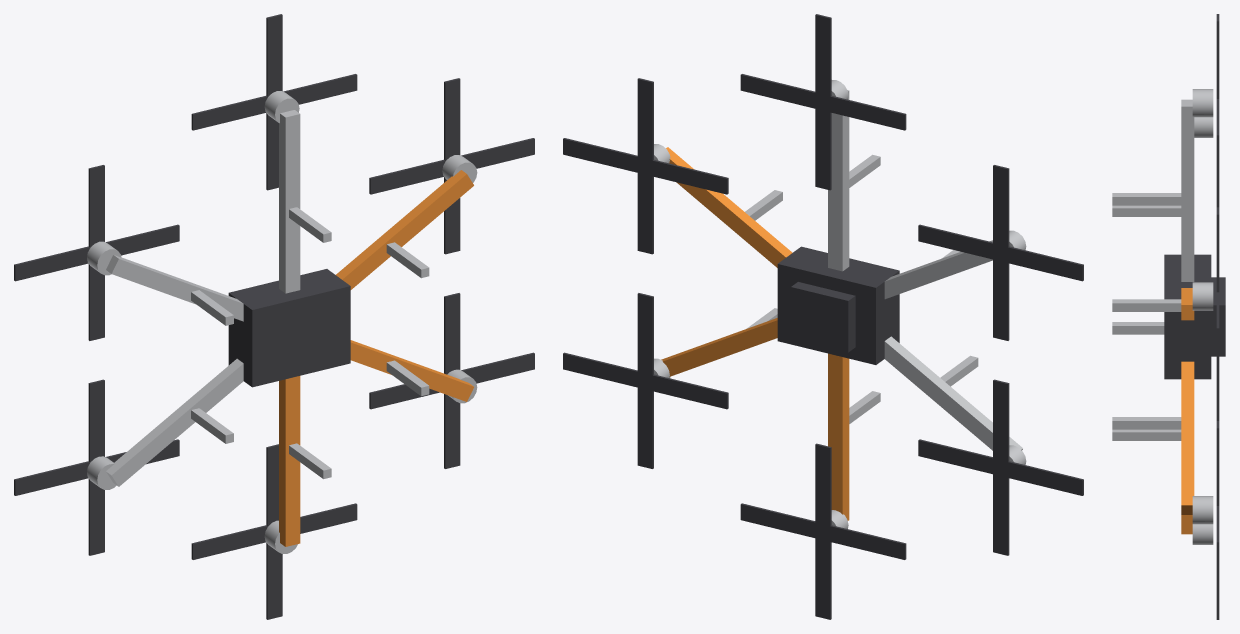
3 views of the same model, side by side, from view 1: azimuth 30°, elevation 25°; view 2: azimuth 150°, elevation 25°; view 3: azimuth 270°, elevation 25° (orthographic).
Visible parts, largest first — view 1: frame, body, arms_front, rotor_3, rotor_2, rotor_1, rotor_5, rotor_6, rotor_4; view 2: frame, body, arms_front, rotor_2, rotor_5, rotor_1, rotor_4, rotor_3, rotor_6; view 3: frame, body, arms_front, rotor_1, rotor_2, rotor_6.
Boxes of the visible parts, x1,y1,x2,y2 form: frame: (87, 91, 477, 553); body: (228, 269, 350, 387); arms_front: (279, 170, 473, 546); rotor_3: (14, 165, 179, 340); rotor_2: (191, 14, 357, 190); rotor_1: (369, 78, 534, 254); rotor_5: (191, 444, 357, 619); rotor_6: (369, 293, 534, 468); rotor_4: (14, 379, 179, 555); frame: (654, 80, 1026, 528); body: (777, 246, 899, 364); arms_front: (661, 147, 849, 520); rotor_2: (740, 14, 906, 190); rotor_5: (740, 443, 906, 619); rotor_1: (563, 78, 728, 254); rotor_4: (918, 379, 1083, 555); rotor_3: (918, 165, 1083, 340); rotor_6: (563, 293, 728, 468); frame: (1112, 89, 1213, 544); body: (1164, 254, 1225, 379); arms_front: (1181, 288, 1194, 534); rotor_1: (1216, 207, 1219, 385); rotor_2: (1216, 14, 1219, 192); rotor_6: (1216, 421, 1219, 599).
Size of the model in its own units: 0.633 by 0.7 by 0.12.
